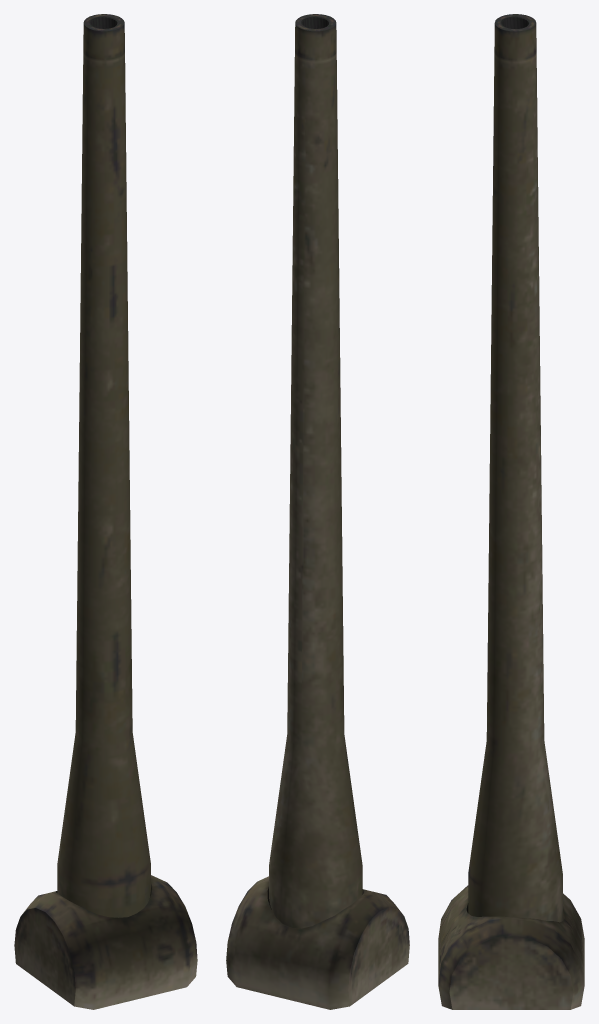
The model's file is Gun_03.glb.
The picture shows the model from 3 angles, left to right: view 1: azimuth 30°, elevation 25°; view 2: azimuth 150°, elevation 25°; view 3: azimuth 270°, elevation 25°; orthographic projection.
Visible parts, largest first — view 1: set_0_group_0; view 2: set_0_group_0; view 3: set_0_group_0.
Boxes of the visible parts, x1,y1,x2,y2 form: set_0_group_0: (14,14,197,1009); set_0_group_0: (226,14,409,1009); set_0_group_0: (438,14,584,1009).
Bounding box in the file's own units: 0.3954 × 3 × 0.4067.
1 material, 1 textured.
